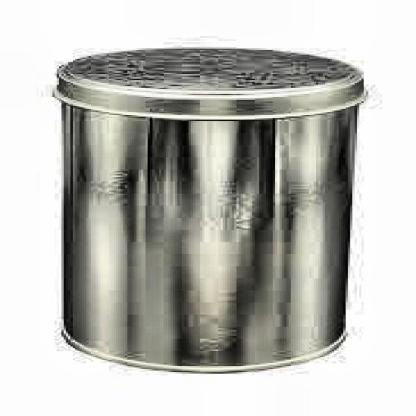Can: (40, 44, 374, 398)
